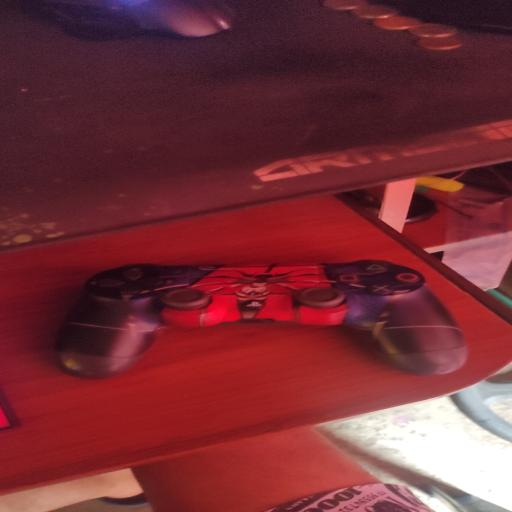ControlPlay4: (55, 259, 467, 378)
